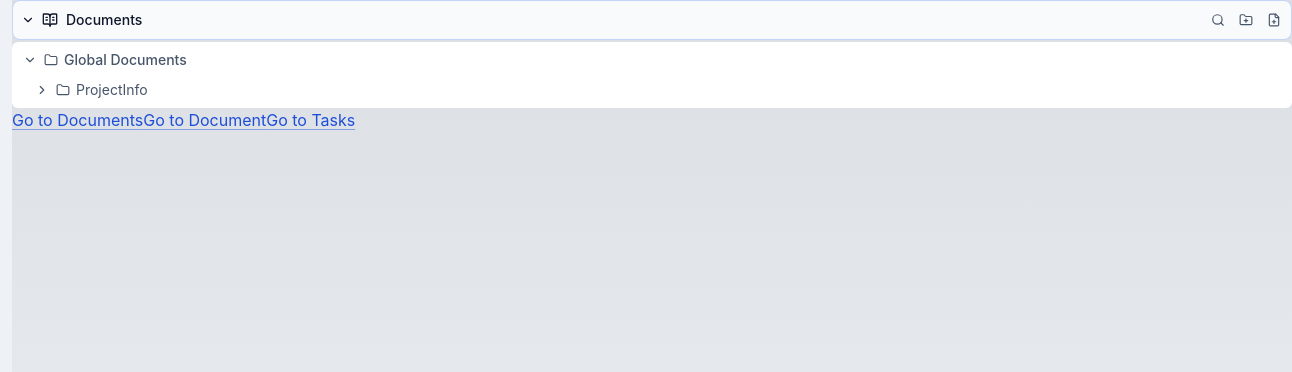
Test: DocumentsSidebarSection › auto-collapses the Documents tree when navigating to another page
Expected: the text "ProjectInfo" is shown, top-left (76, 81), bottom-right (148, 98)
Expected: the button named "Collapse Documents" is shown, top-left (18, 10), bottom-right (38, 30)
Click the link "Go to Tasks" at (311, 120), box top-left (266, 110), bottom-right (355, 130)
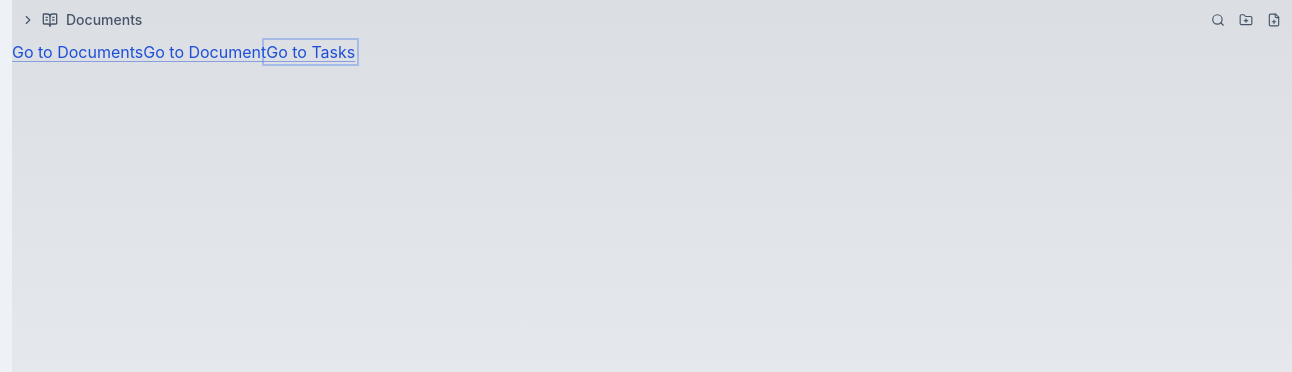
Result: the button named "Expand Documents" is shown at top-left (18, 10), bottom-right (38, 30)
Result: the button "ProjectInfo" is gone
